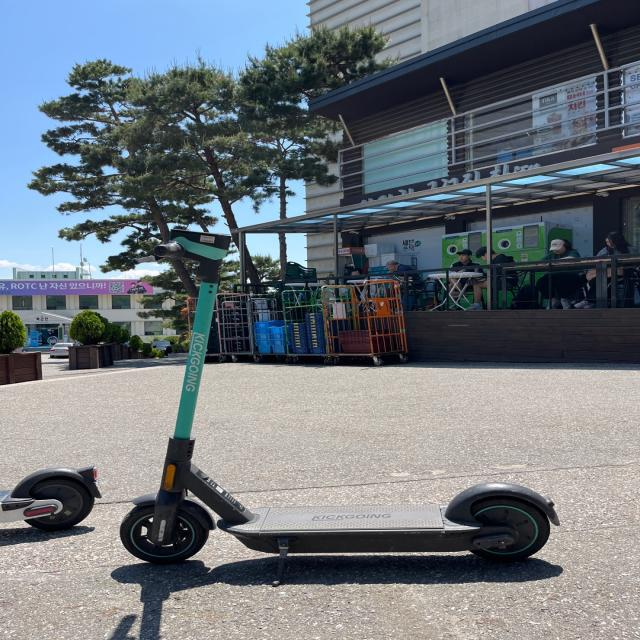kick-board: (120, 230, 558, 583)
road: (0, 355, 638, 640)
